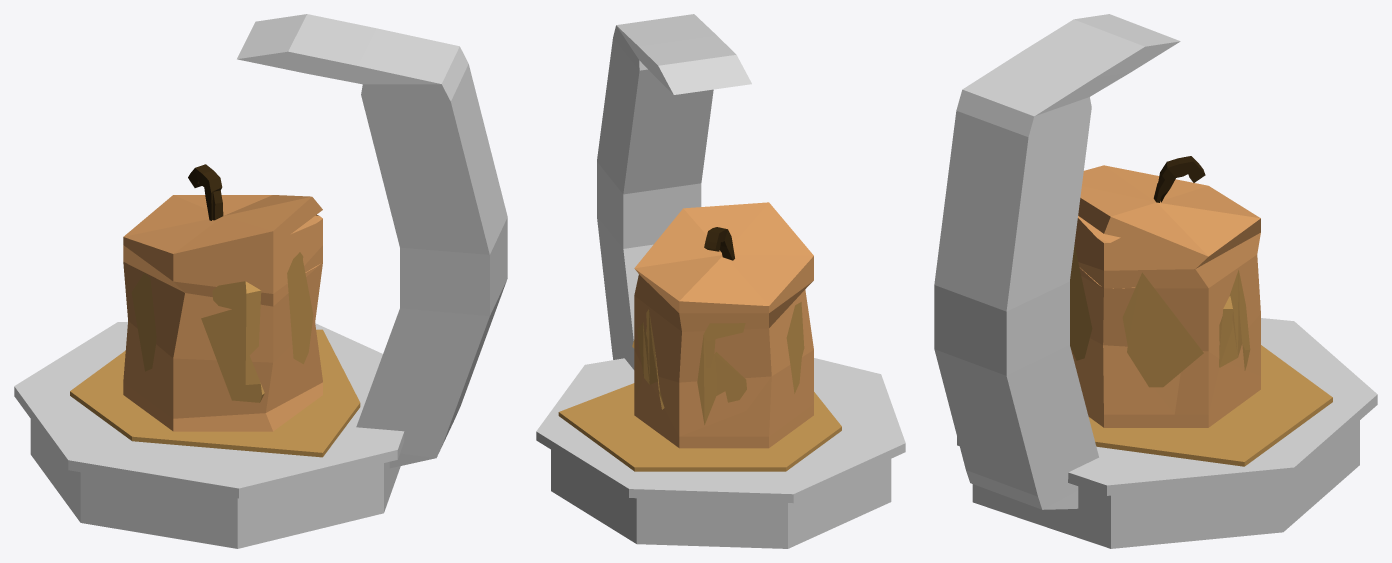
File: RemadeCandleMelted(B).fbx
3 renders of one model, left to right at view 1: azimuth 30°, elevation 25°; view 2: azimuth 150°, elevation 25°; view 3: azimuth 270°, elevation 25°, orthographic. The views are drawn at different scales.
Visible parts, largest first — view 1: Handle, Dish, Candle Remade, Melted wax Base, Melted wax, Wick; view 2: Candle Remade, Dish, Handle, Melted wax Base, Melted wax, Wick; view 3: Handle, Candle Remade, Dish, Melted wax Base, Melted wax, Wick.
Part boxes in pixels (x1,y1,x2,y2): Handle: [237, 14, 507, 468]; Dish: [14, 322, 404, 548]; Candle Remade: [123, 195, 322, 431]; Melted wax Base: [70, 329, 360, 457]; Melted wax: [131, 252, 313, 402]; Wick: [188, 164, 223, 220]; Candle Remade: [634, 202, 813, 448]; Dish: [536, 358, 905, 548]; Handle: [597, 14, 751, 369]; Melted wax Base: [558, 383, 841, 471]; Melted wax: [632, 302, 804, 424]; Wick: [704, 227, 734, 260]; Handle: [934, 14, 1180, 509]; Candle Remade: [1070, 165, 1260, 427]; Dish: [957, 318, 1377, 548]; Melted wax Base: [1088, 345, 1332, 466]; Melted wax: [1070, 245, 1250, 387]; Wick: [1153, 156, 1205, 202].
Size of the model in its own units: 232 by 248 by 218.
